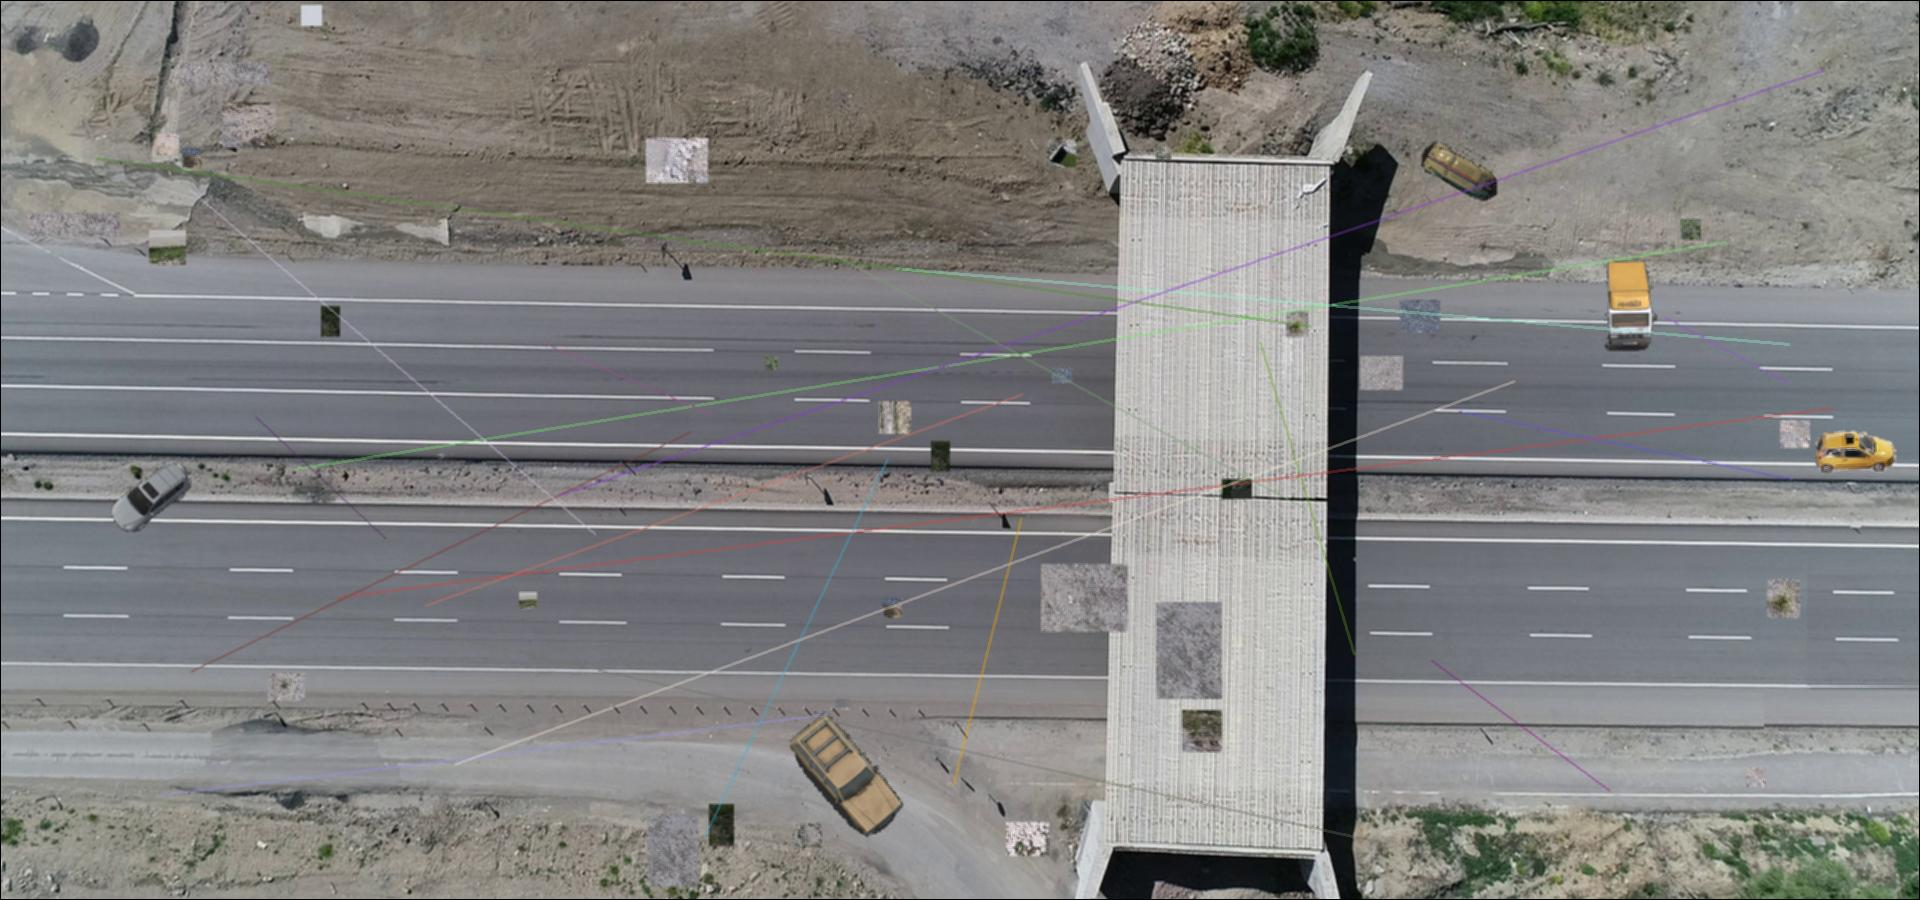arac: (790, 708, 905, 838), (108, 464, 191, 531), (1605, 260, 1659, 351), (1420, 141, 1498, 202), (1816, 430, 1896, 474)
